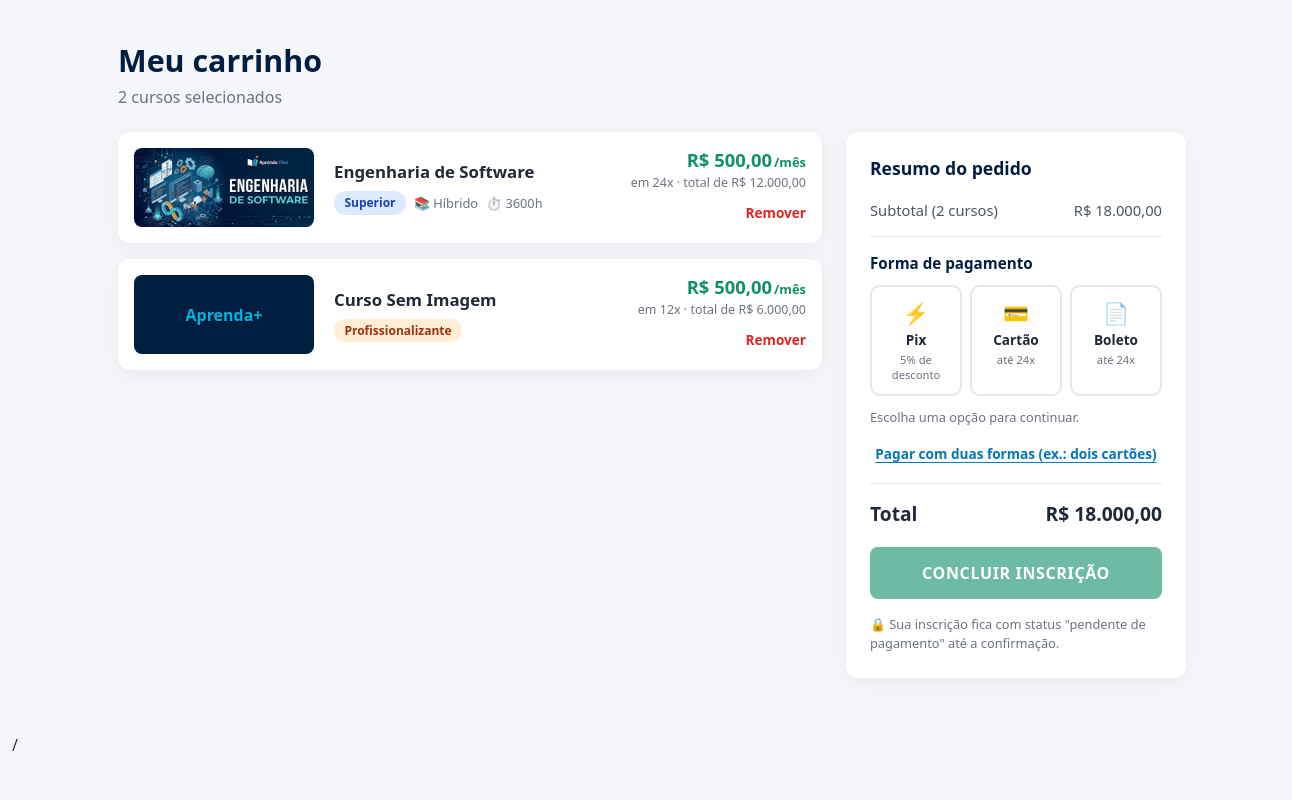
Test: forma de pagamento › cartão já sugere o máximo de parcelas e permite trocar
Check: the heading "Meu carrinho" is shown, box [118,40,322,81]
Step 1. Click the text "Cartão" → click(1016, 340), box [993,330,1039,349]
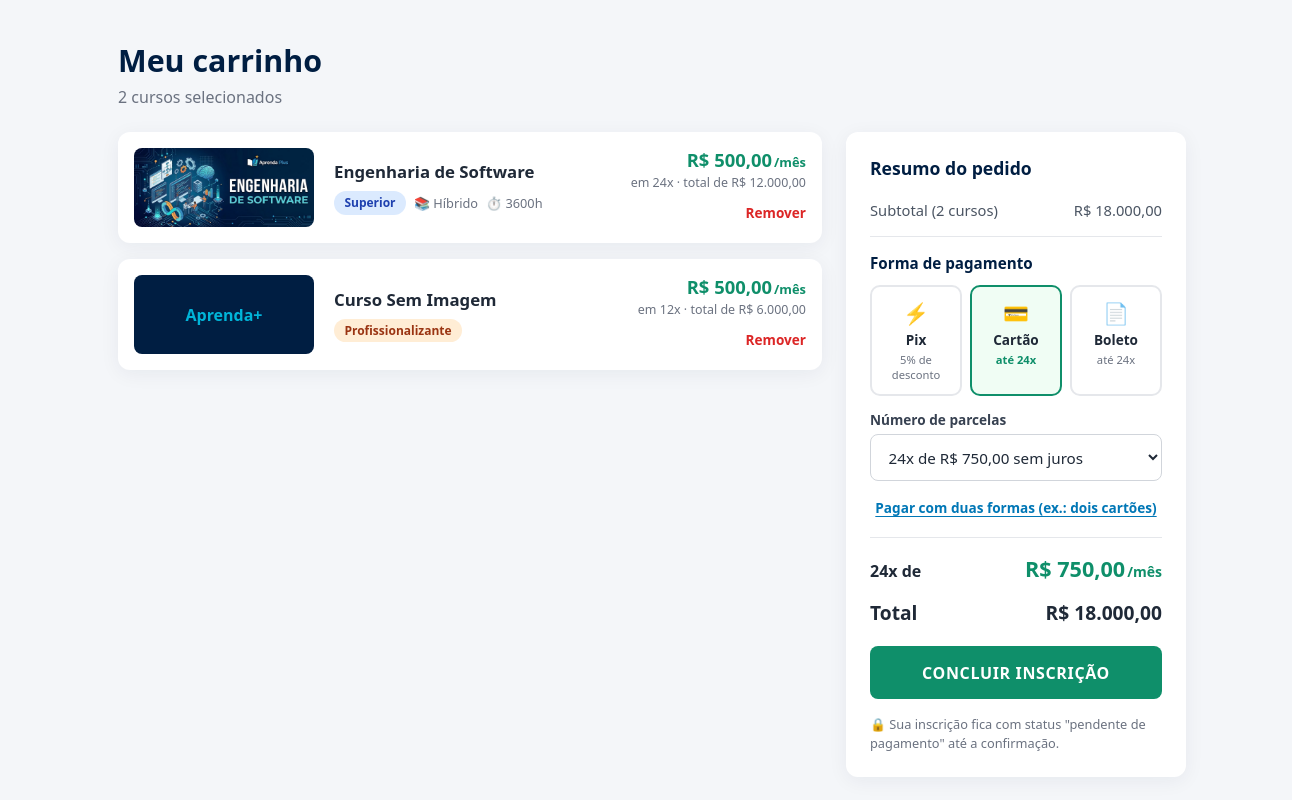
Check: the dropdown labelled "Número de parcelas" shows "24x de R$ 750,00 sem juros"
Check: the element showing "24x de R$ 750,00/mês" is shown, box [870,538,1162,583]
Step 2. Select "6x de R$ 3.000,00 sem juros" in the dropdown labelled "Número de parcelas" → (1016, 458), box [870,434,1162,481]
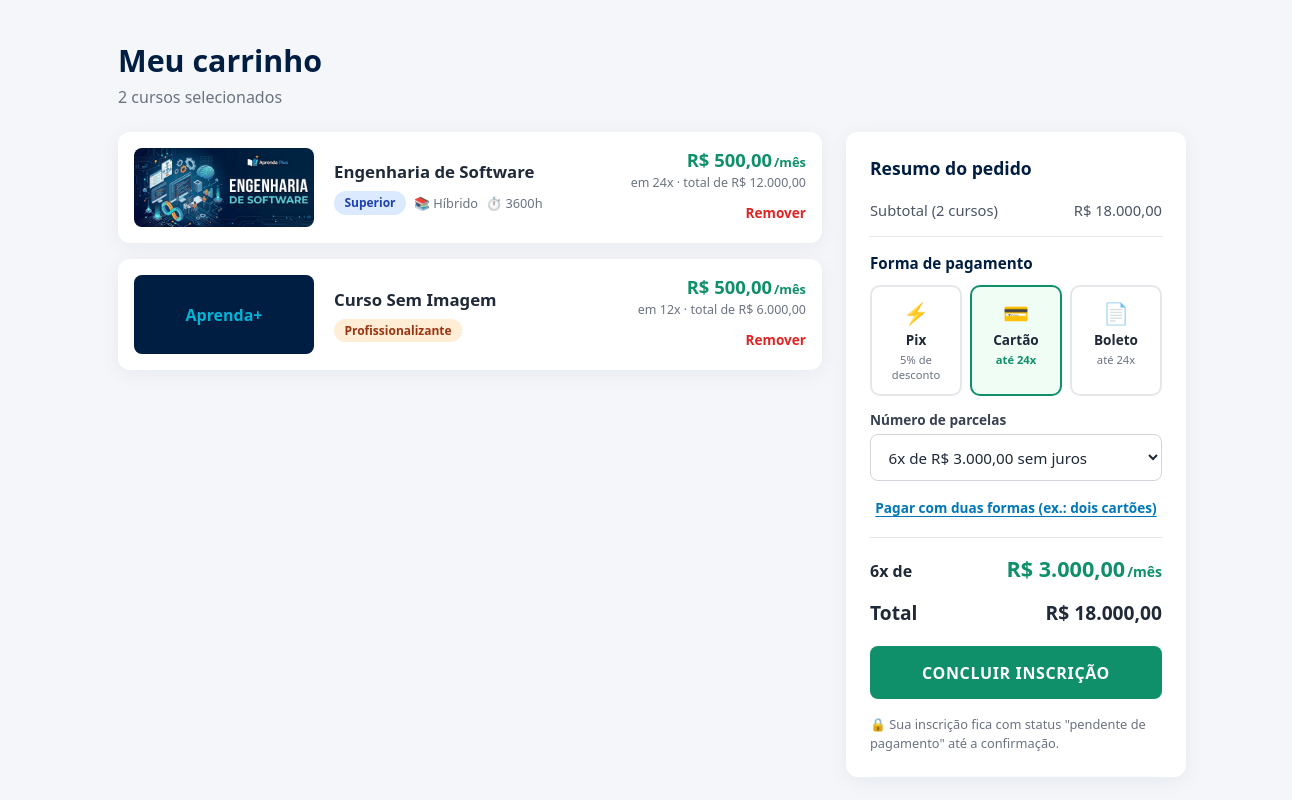
Check: the element showing "Total R$ 18.000,00" is shown, box [870,599,1162,626]
Check: the element showing "6x de R$ 3.000,00/mês" is shown, box [870,538,1162,583]
